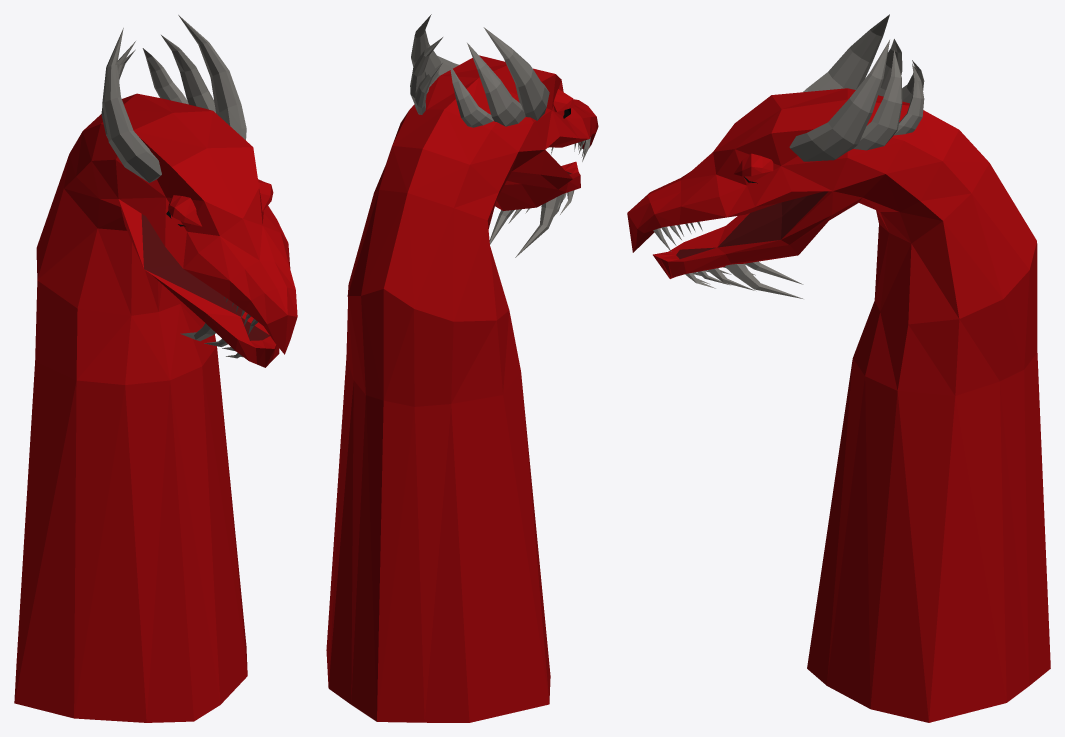
File: drache.fbx
The picture shows the model from 3 angles, left to right: view 1: azimuth 30°, elevation 25°; view 2: azimuth 150°, elevation 25°; view 3: azimuth 270°, elevation 25°; orthographic projection. The views are drawn at different scales.
Visible parts, largest first — view 1: Cube; view 2: Cube; view 3: Cube.
Part boxes in pixels (left/top/right/bottom): Cube: left=14, top=15, right=297, bottom=722; Cube: left=326, top=14, right=598, bottom=722; Cube: left=627, top=14, right=1050, bottom=722.
Bounding box in the file's own units: 285 × 784 × 469.
